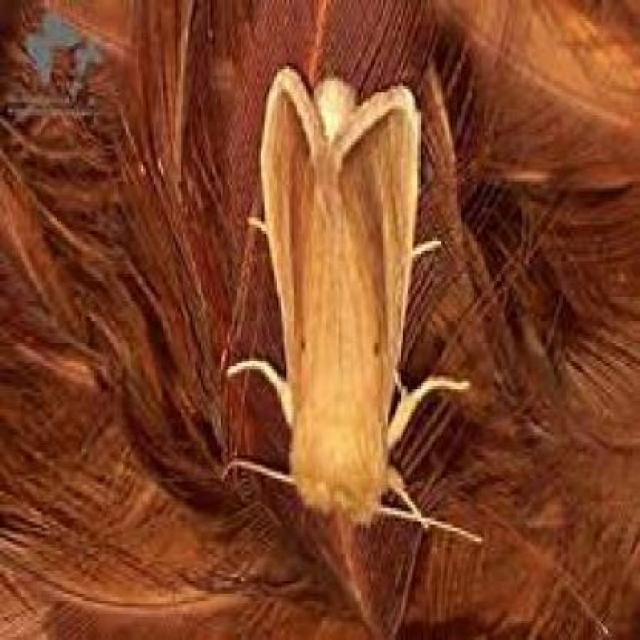stem-borer: (251, 60, 426, 535)
